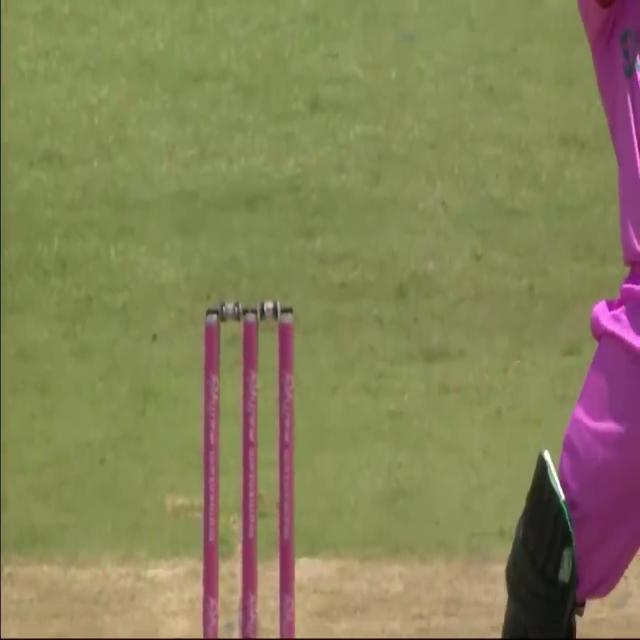Ball: (512, 0, 640, 636)
